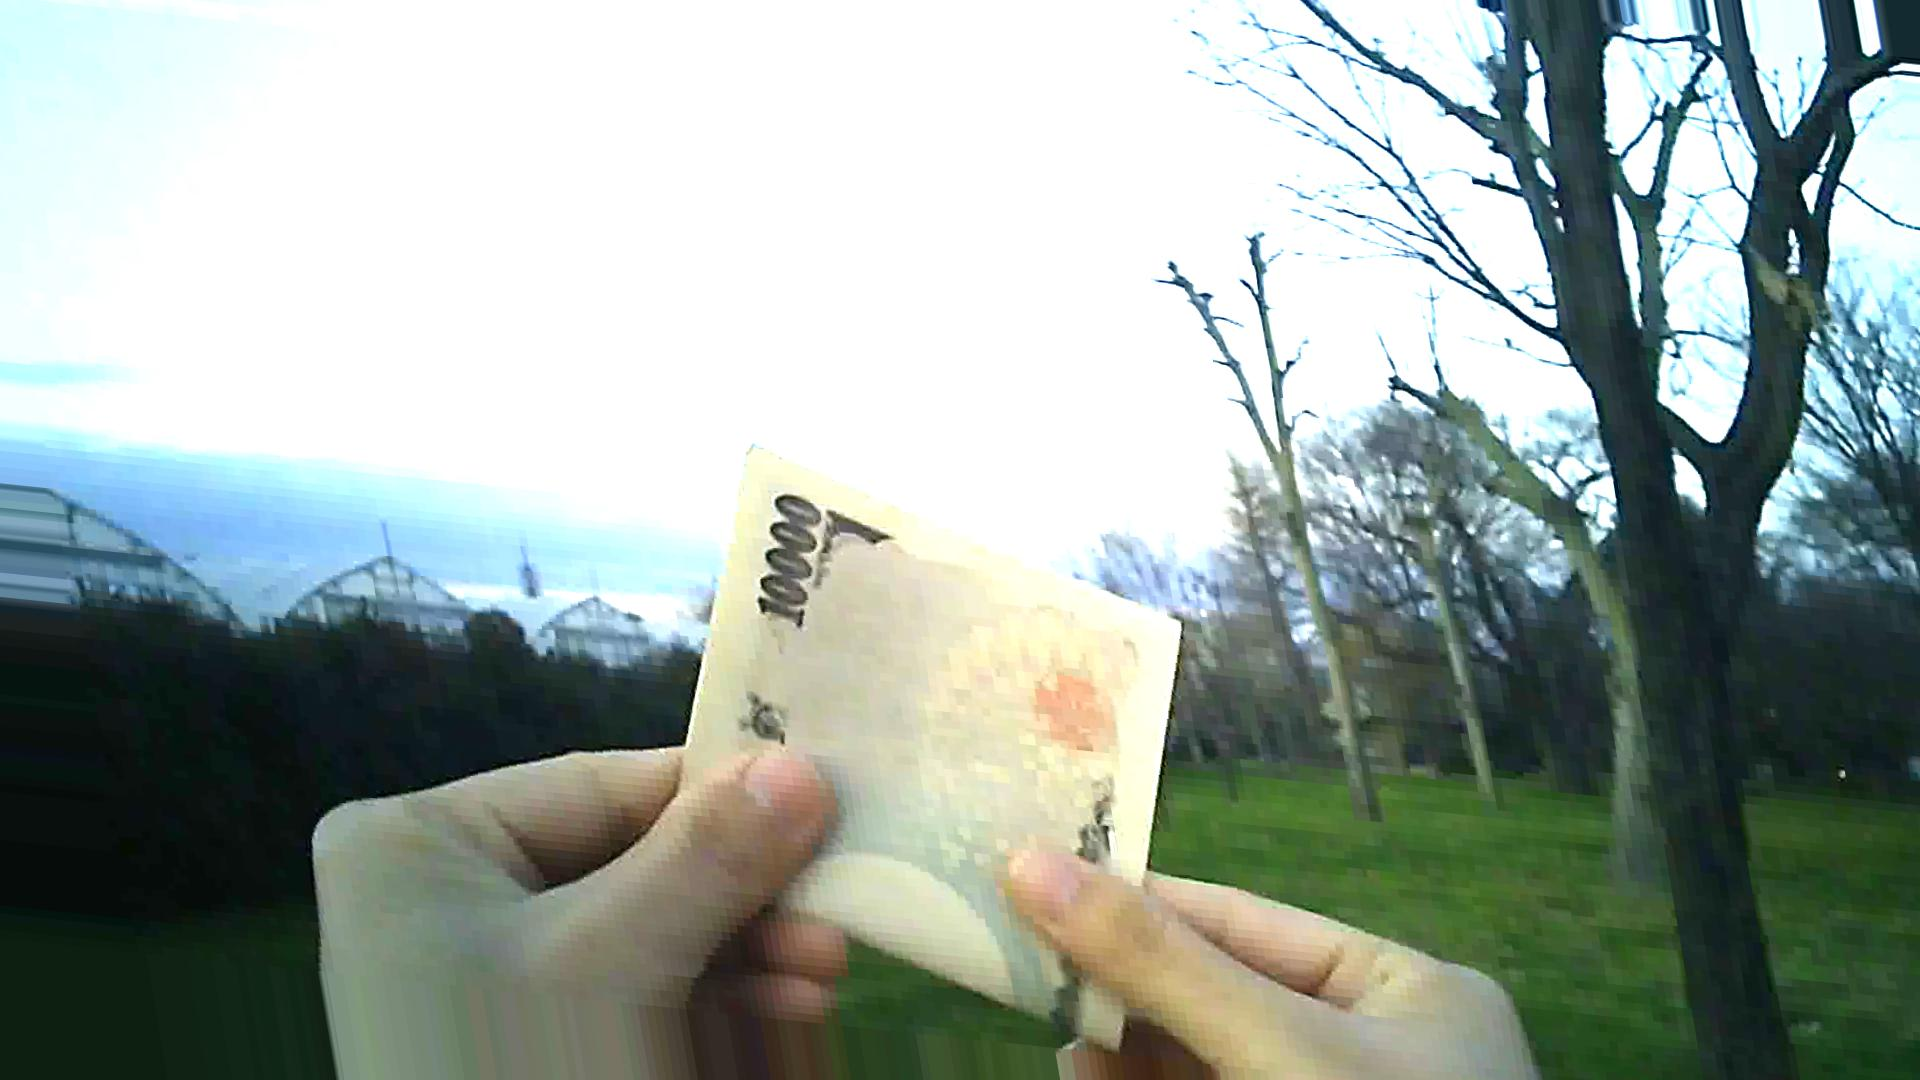10,000 Yen: (666, 429, 1200, 1021)
